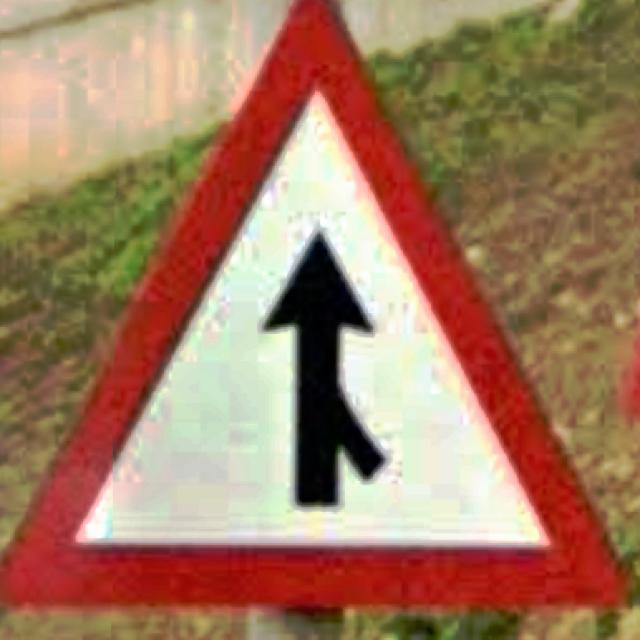rightmerge: (0, 0, 623, 619)
